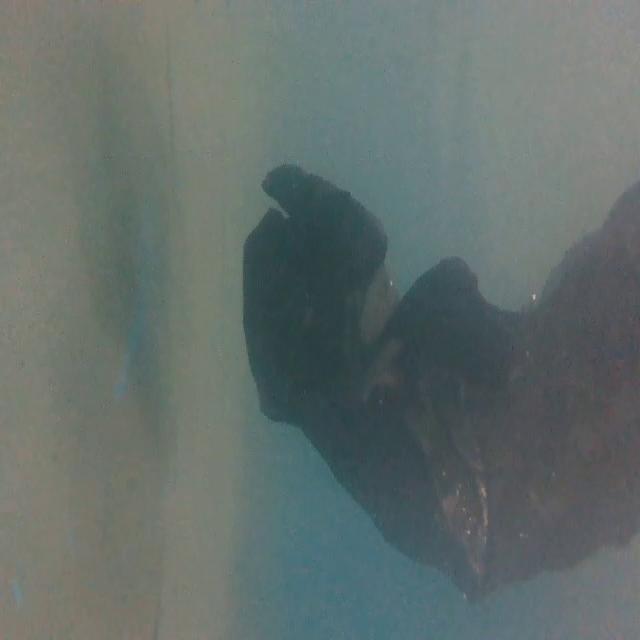plastic bags: (238, 158, 640, 606)
